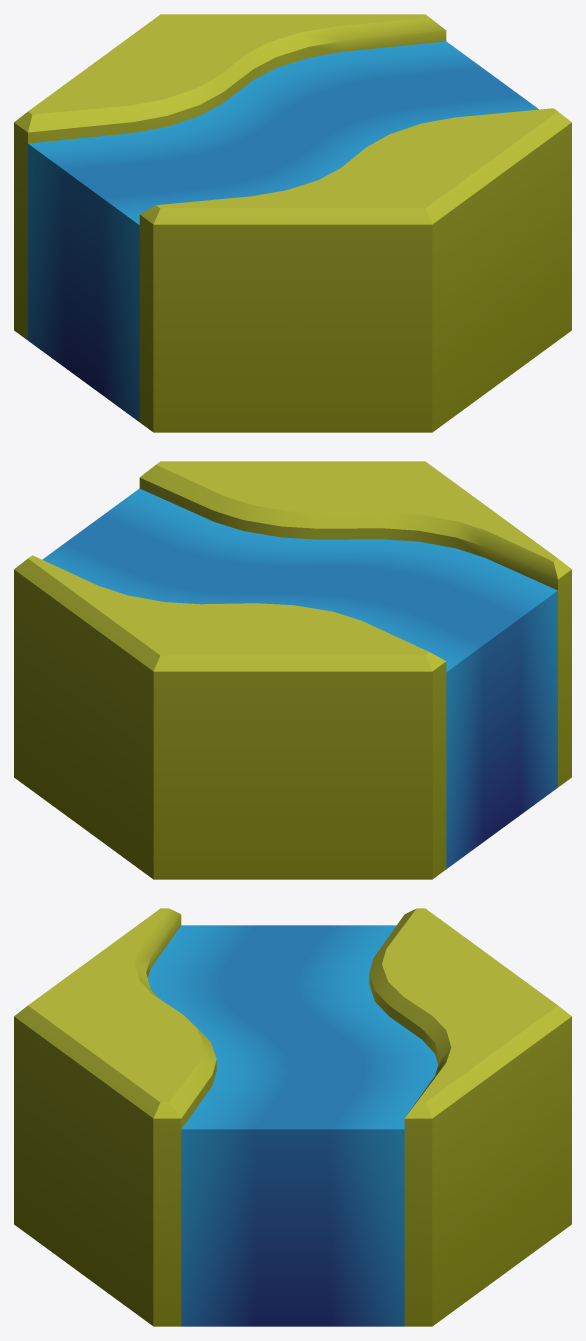
Rendered from hex_river_A_curvy.glb.
3 views of the same model, one above another, from view 1: azimuth 30°, elevation 25°; view 2: azimuth 150°, elevation 25°; view 3: azimuth 270°, elevation 25° (orthographic).
Parts seen in each view (by area): view 1: hex_river_A_curvy; view 2: hex_river_A_curvy; view 3: hex_river_A_curvy.
Part boxes in pixels (bbox=[...]): hex_river_A_curvy: bbox=[14, 14, 571, 432]; hex_river_A_curvy: bbox=[14, 461, 571, 879]; hex_river_A_curvy: bbox=[14, 908, 571, 1326].
Size of the model in its own units: 2 by 1 by 2.31.
Materials: 1 (1 with a texture image).
